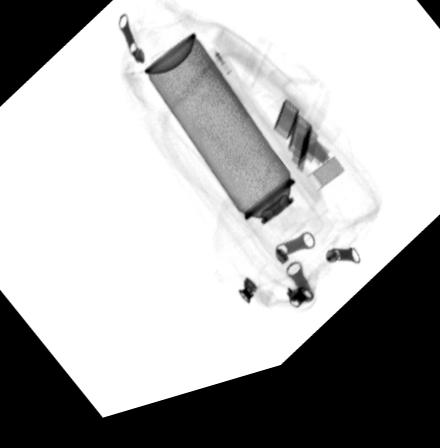Sprayer: (141, 40, 326, 279)
